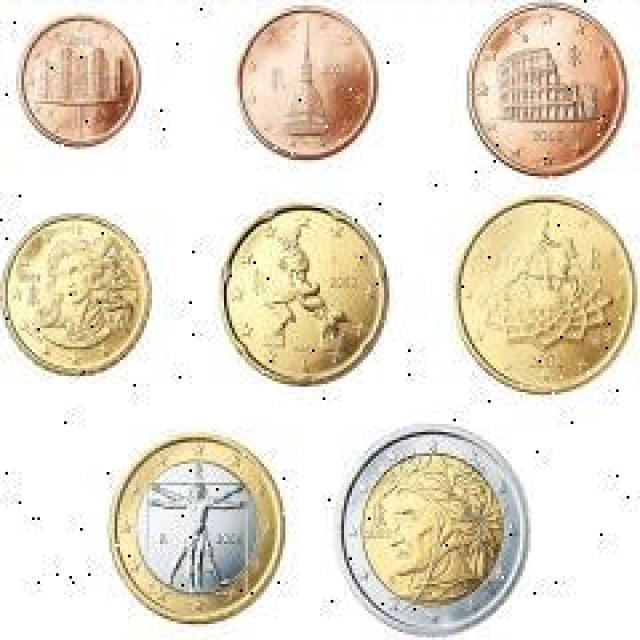10c: (4, 212, 152, 378)
1c: (16, 12, 143, 148)
1e: (108, 431, 290, 625)
20c: (219, 202, 390, 388)
2c: (237, 3, 381, 162)
2e: (334, 423, 535, 637)
50c: (452, 195, 638, 397)
5c: (465, 1, 630, 178)
